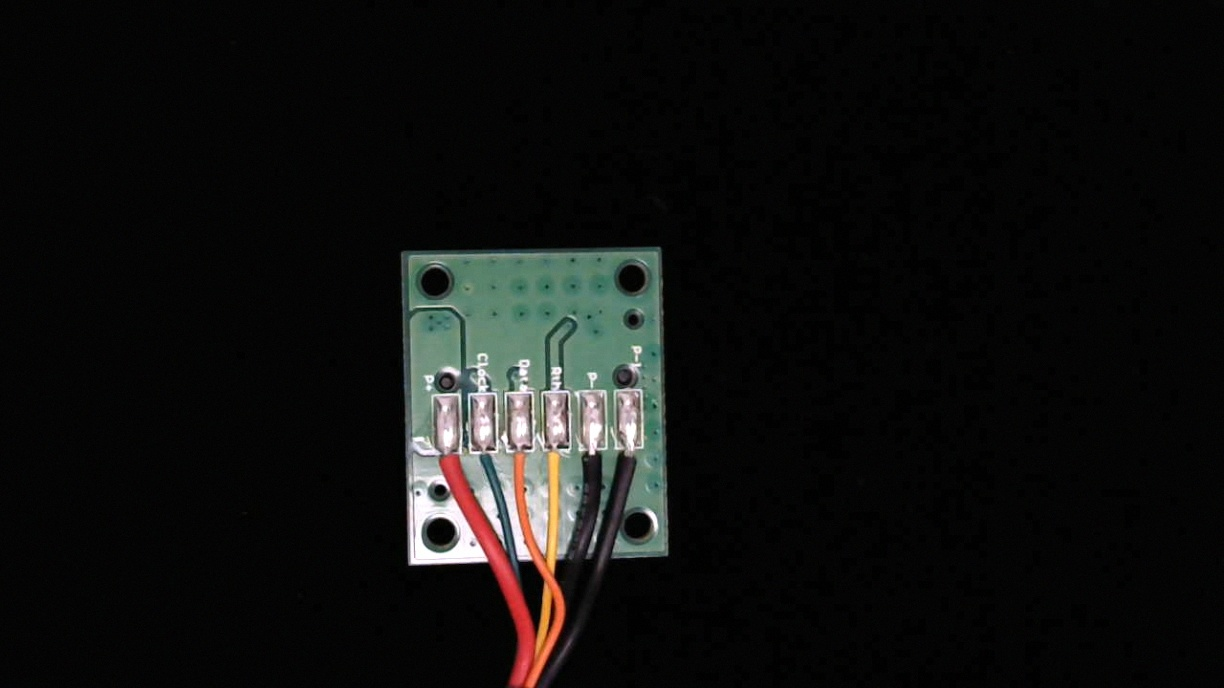Black: (577, 434, 609, 504)
Black1: (617, 432, 648, 496)
Green: (470, 433, 498, 489)
Orange: (506, 432, 536, 496)
Red: (433, 436, 466, 503)
Yellow: (540, 435, 573, 505)
